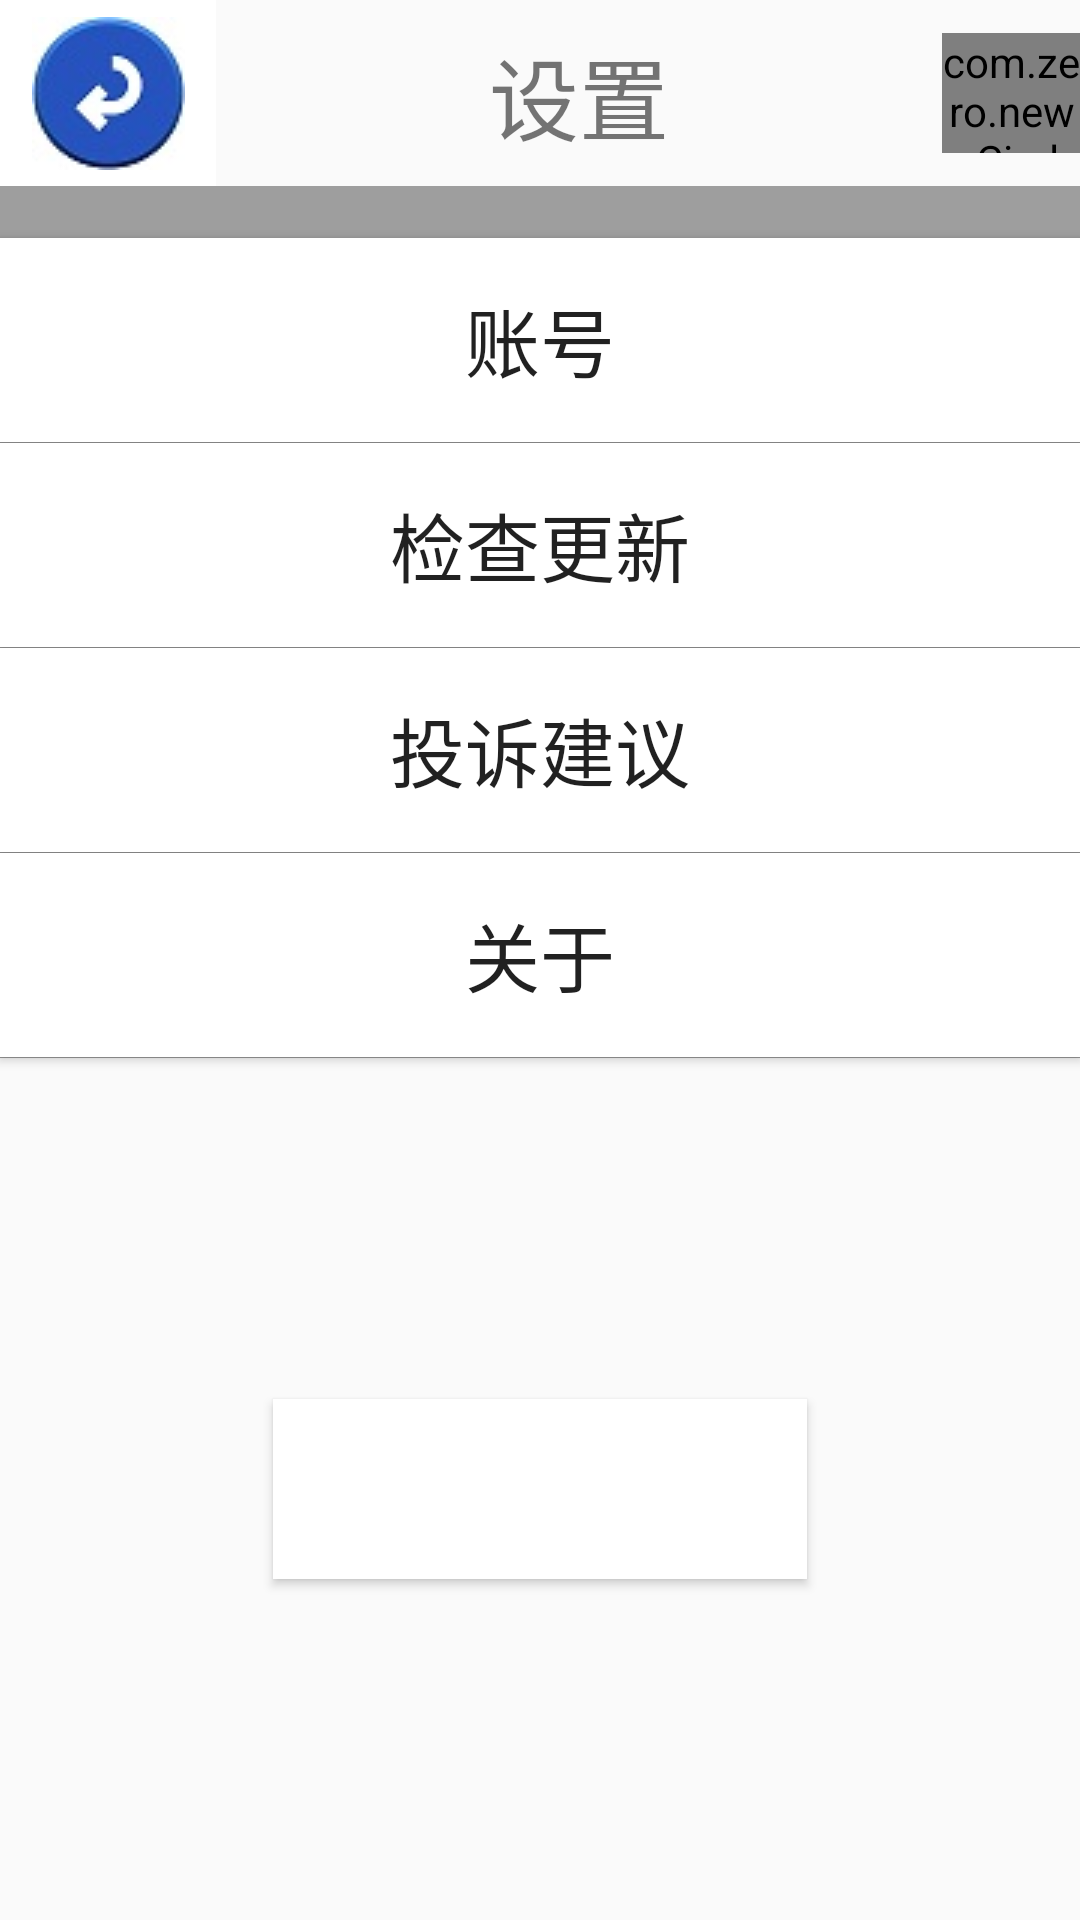

Named icons in this screenshot (1080px x 1920px) and their centers, (x,y):
fanhui: (108,93)
